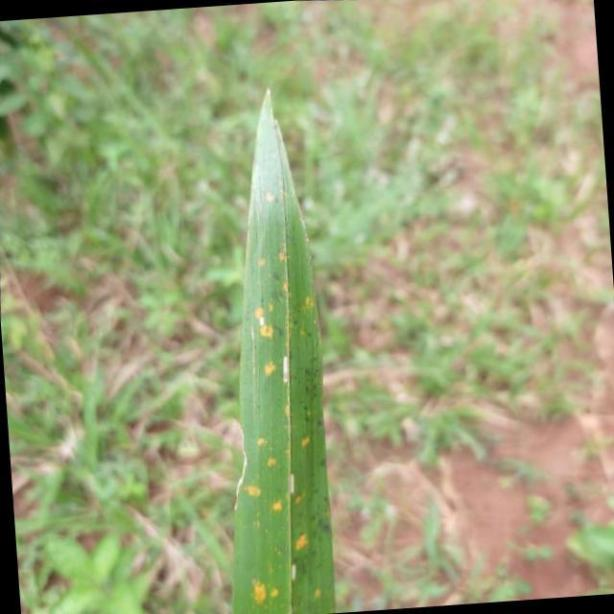Kalium: (231, 79, 333, 614)
